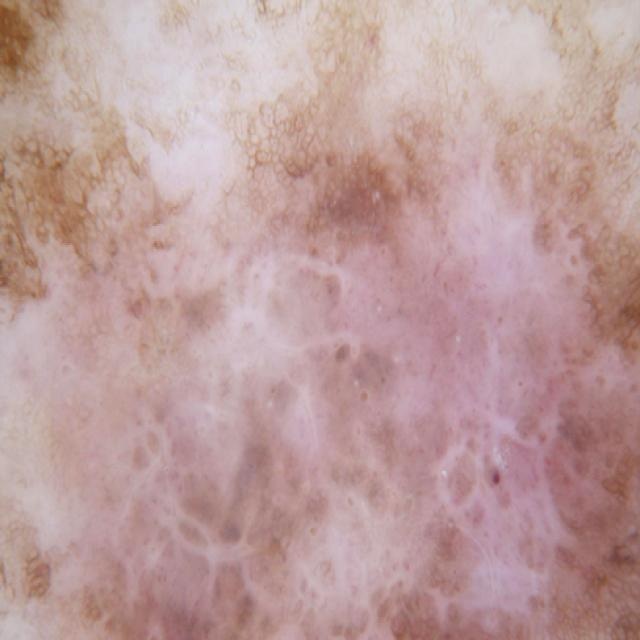Dermatofibroma: (200, 180, 624, 640), (0, 4, 113, 253)
